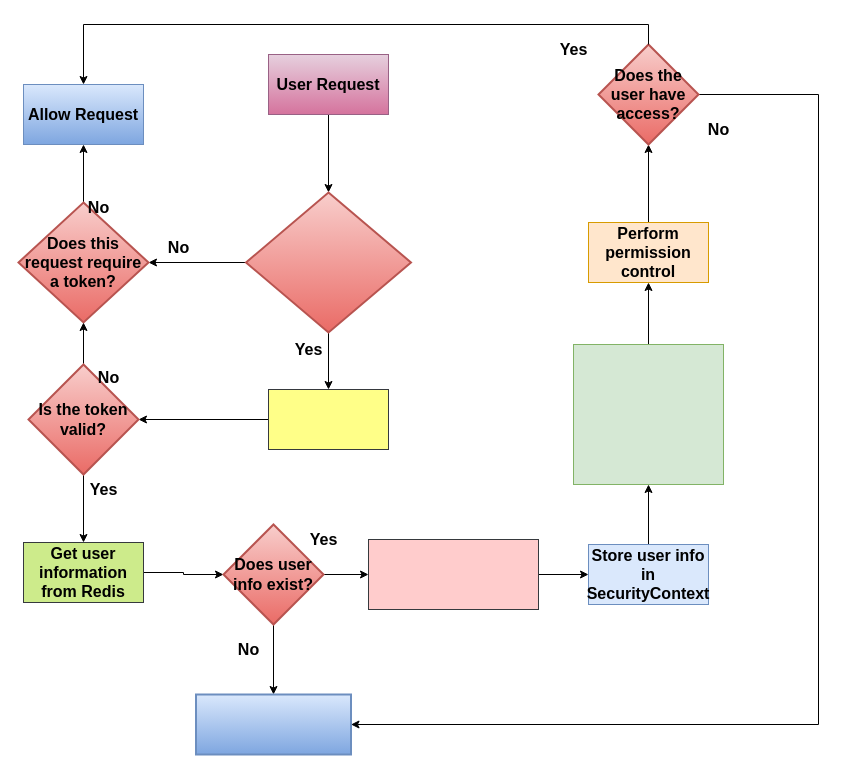
This 844x773 diagram has some shape labels left out. Each missing label, with the centre of its shape:
"Authentication Success, create AuthenticationToken" goes at [453,574].
"Does the request contain JWT token?" goes at [328,262].
"Parse JWT token" goes at [328,419].
"Subsequent requests can access Authentication info from SecurityContext" goes at [648,414].
"Throw authorization failed exception" goes at [273,724].
